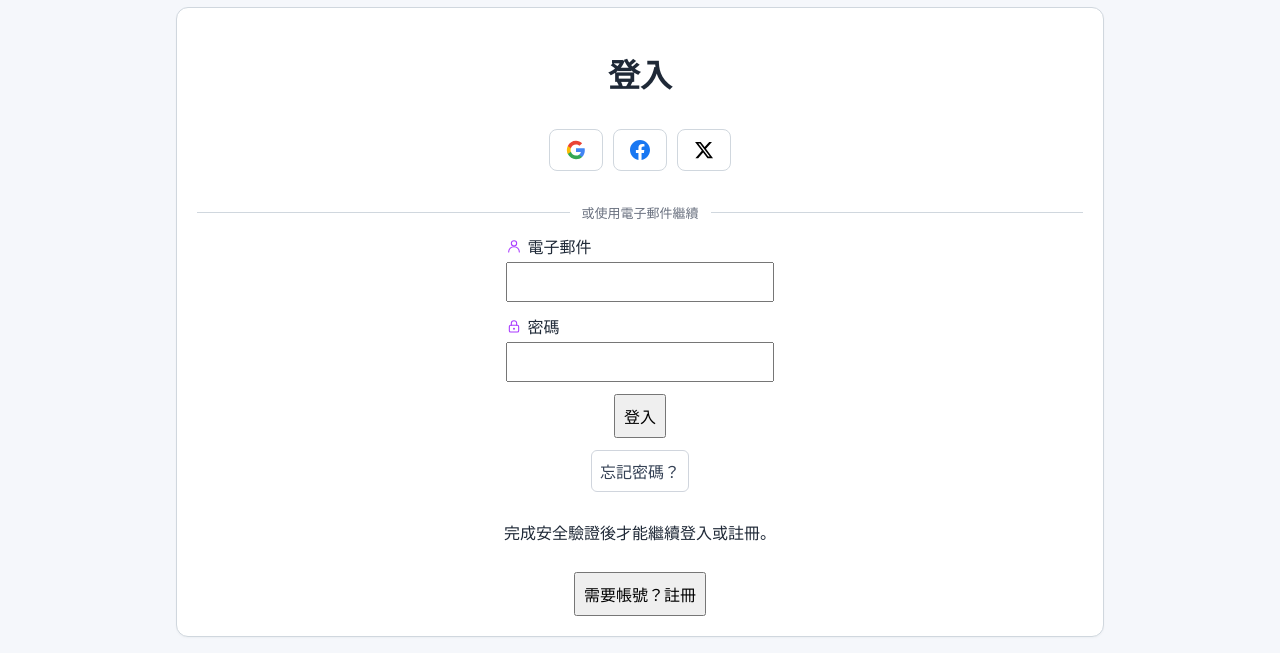
Scenario: AuthPage › renders sign-up and shows validation error on empty submit
(page scrolled)
Click the button "需要帳號？註冊".
click(640, 594)  # box left=574, top=572, right=706, bottom=616
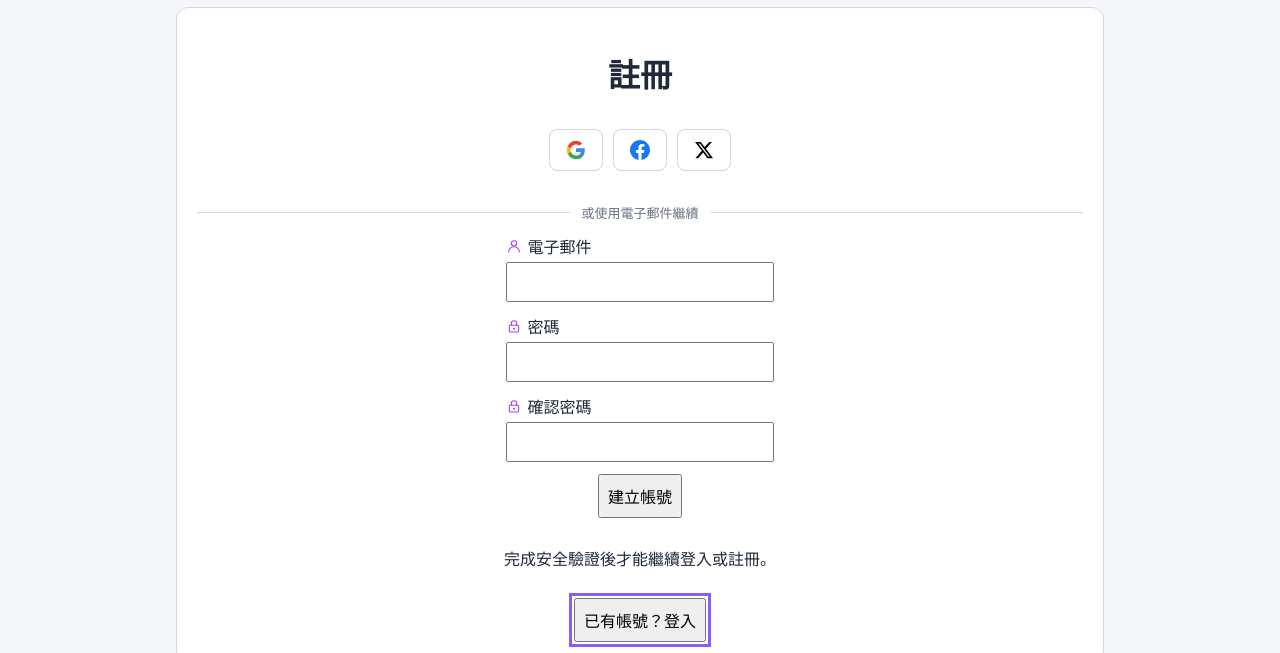
Click the button "建立帳號".
click(640, 496)  # box left=598, top=474, right=682, bottom=518
(page scrolled)
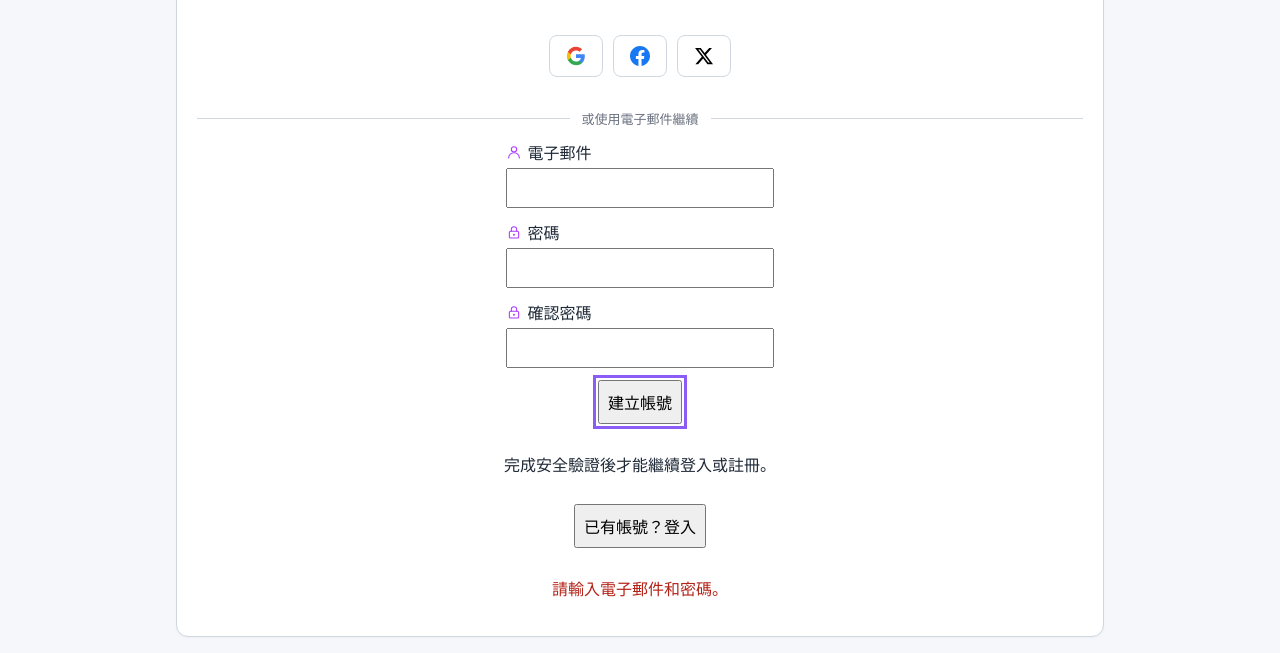
Now the text "請輸入電子郵件和密碼。" is shown, box left=552, top=576, right=728, bottom=600
